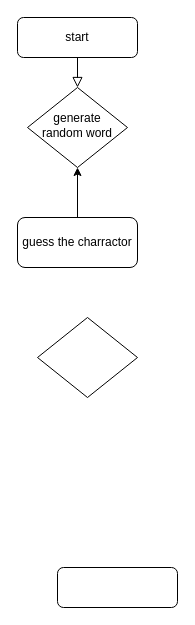
This 195x625 diagram has some shape labels left out. Each missing label, with the centre of its shape:
end: (x=117, y=587)
match: (x=87, y=357)
